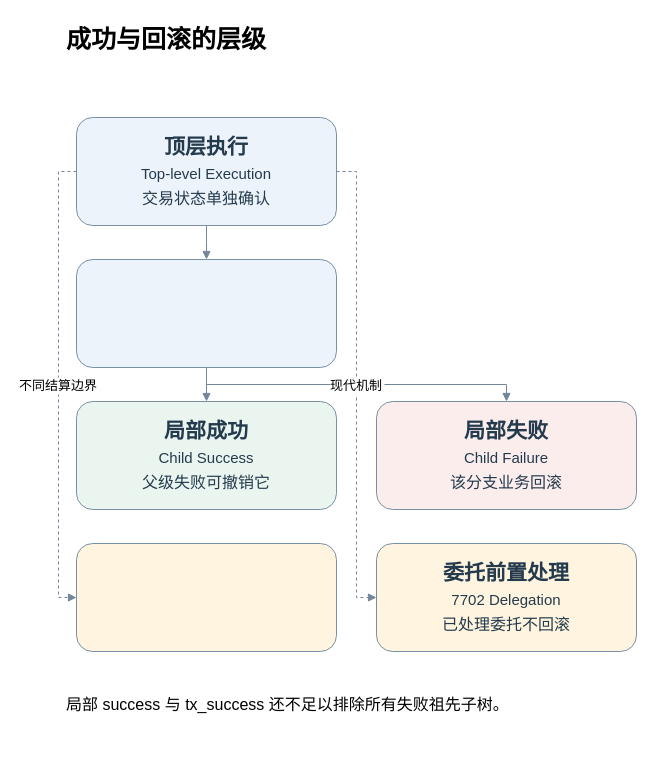
Some shapes in this 665 by 775 pixel diagram are drawn without their labels. Each missing label, with the centre of its shape:
"父调用 Parent Frame 可捕获子调用失败" belongs at pixel 206 313.
"费用与 Nonce Protocol Settlement 失败仍可能结算" belongs at pixel 206 597.
